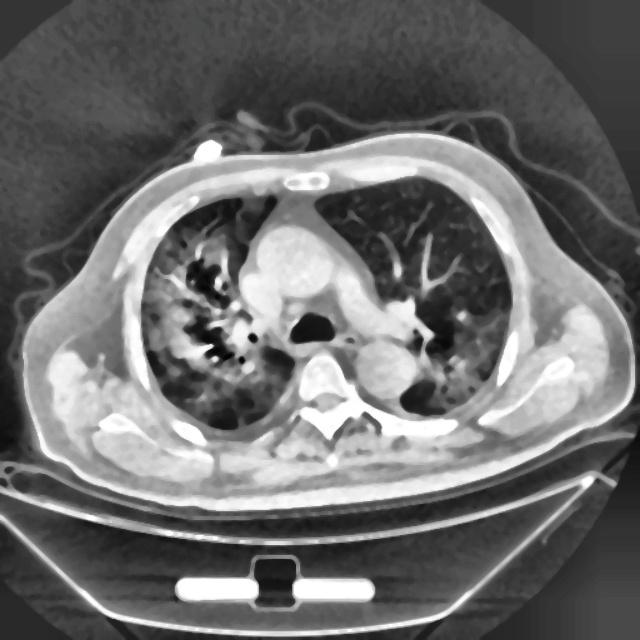covid: (18, 120, 636, 517)
